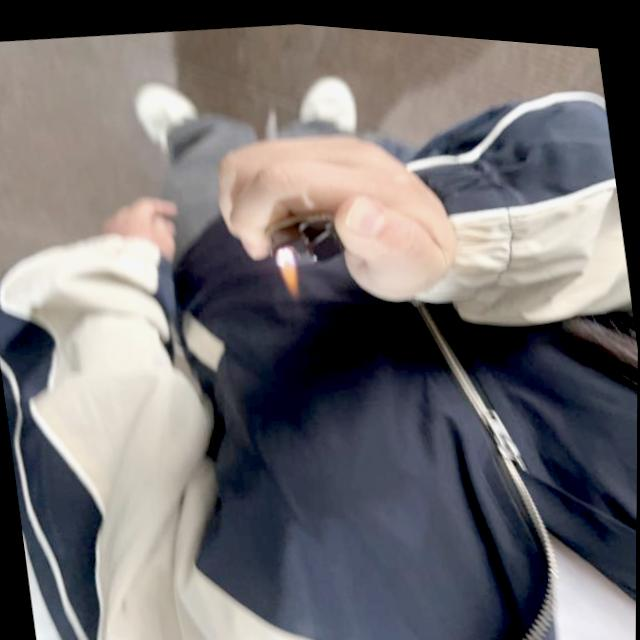Fire: (272, 243, 302, 299)
